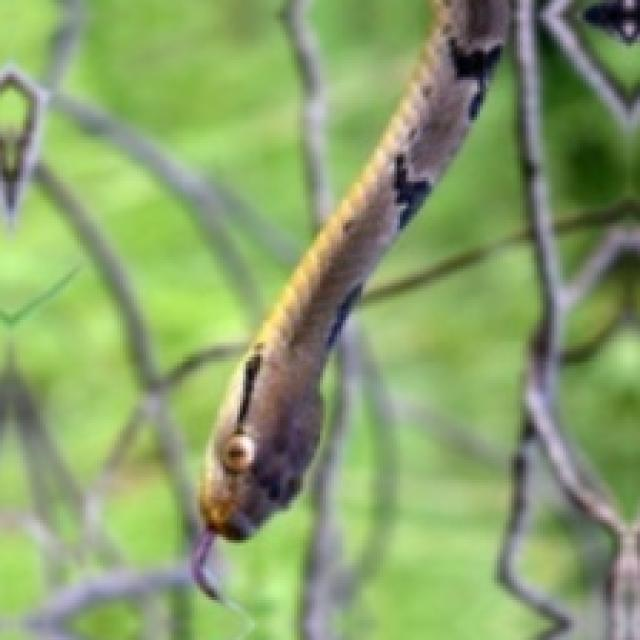dog-toothed cat snake: (191, 0, 506, 569), (194, 0, 509, 557)
